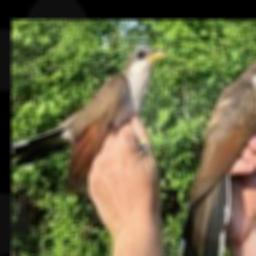Cuckoo: (11, 45, 166, 198), (180, 58, 256, 256)
